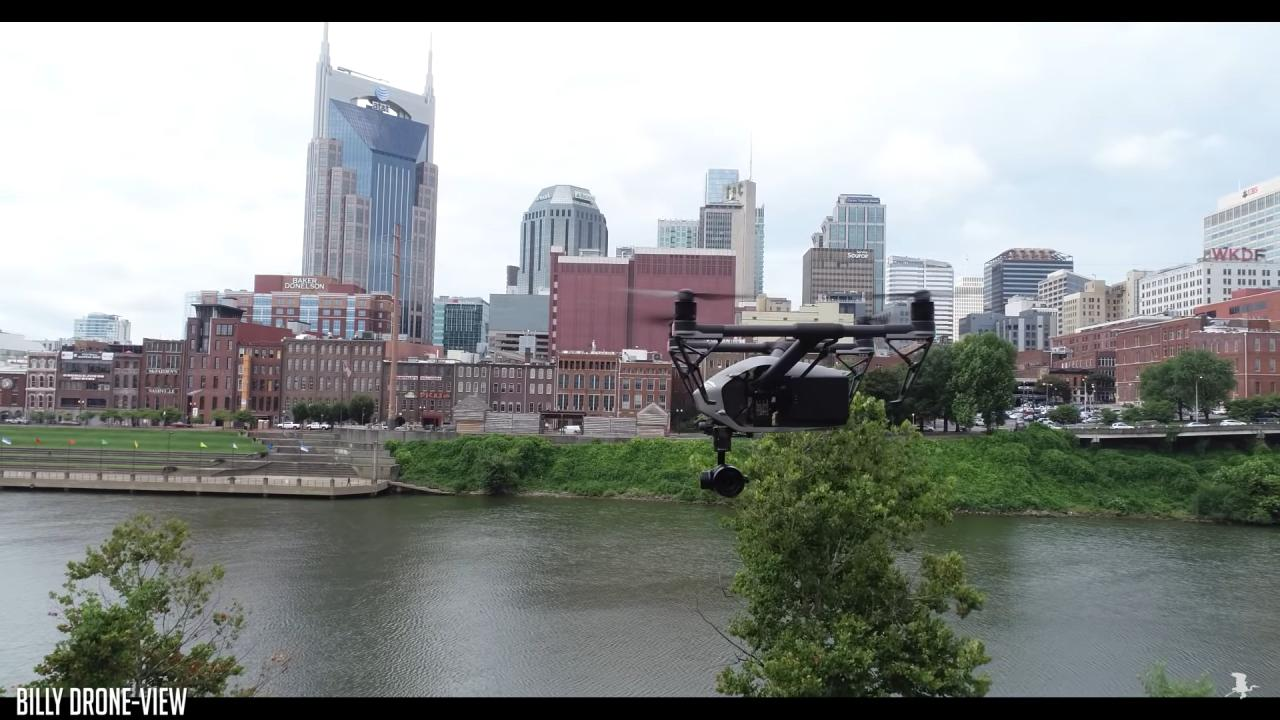Drone: (595, 276, 998, 507)
